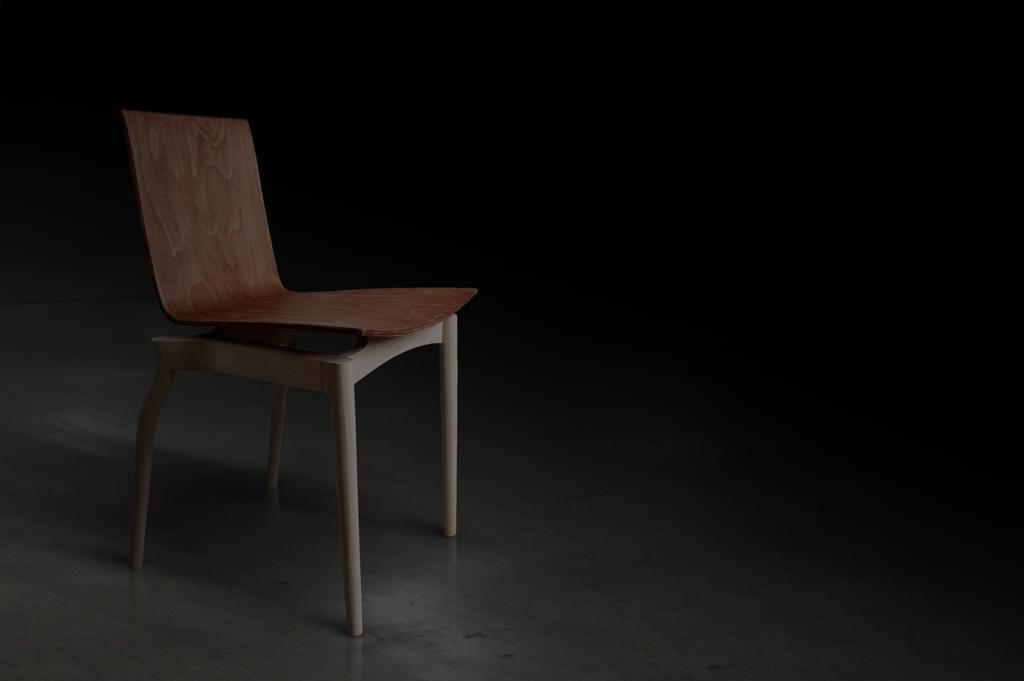Chair: (116, 110, 477, 640)
